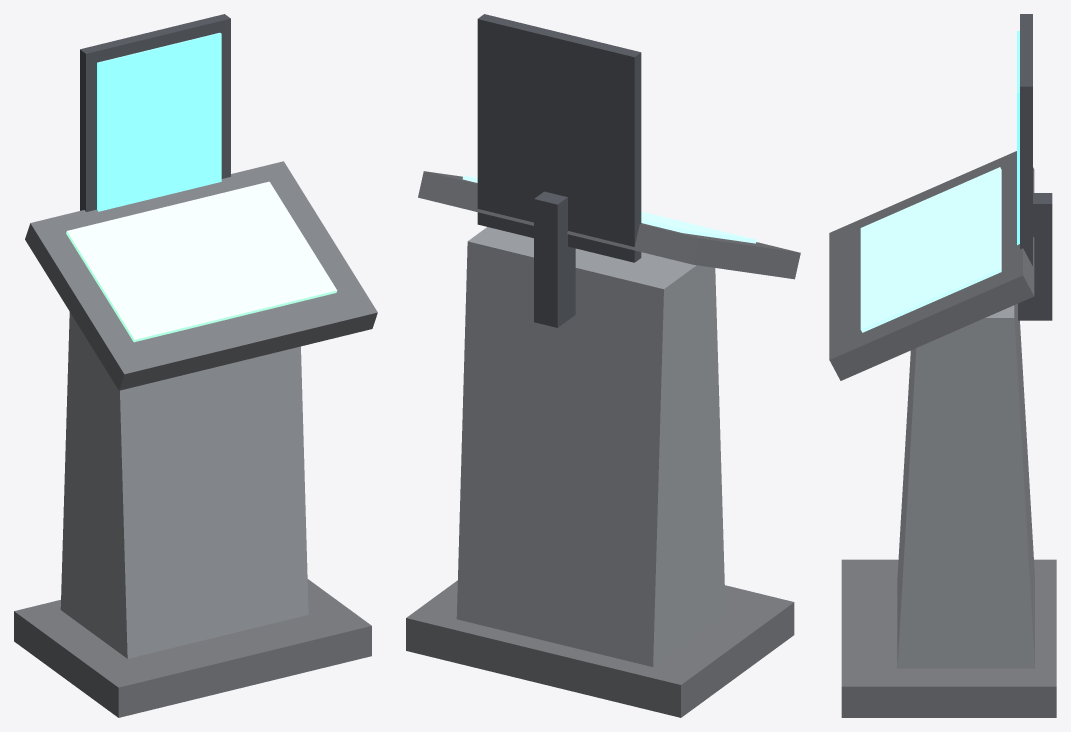
The model's file is SM_Console_Standing.glb.
The picture shows the model from 3 angles, left to right: view 1: azimuth 30°, elevation 25°; view 2: azimuth 150°, elevation 25°; view 3: azimuth 270°, elevation 25°; orthographic projection. The views are drawn at different scales.
Visible parts, largest first — view 1: SM_Console_Standing; view 2: SM_Console_Standing; view 3: SM_Console_Standing.
Boxes of the visible parts, bbox=[...] form: SM_Console_Standing: bbox=[14, 14, 377, 717]; SM_Console_Standing: bbox=[406, 14, 800, 717]; SM_Console_Standing: bbox=[829, 14, 1056, 717].
Size of the model in its own units: 0.7 by 1.55 by 0.5282.
